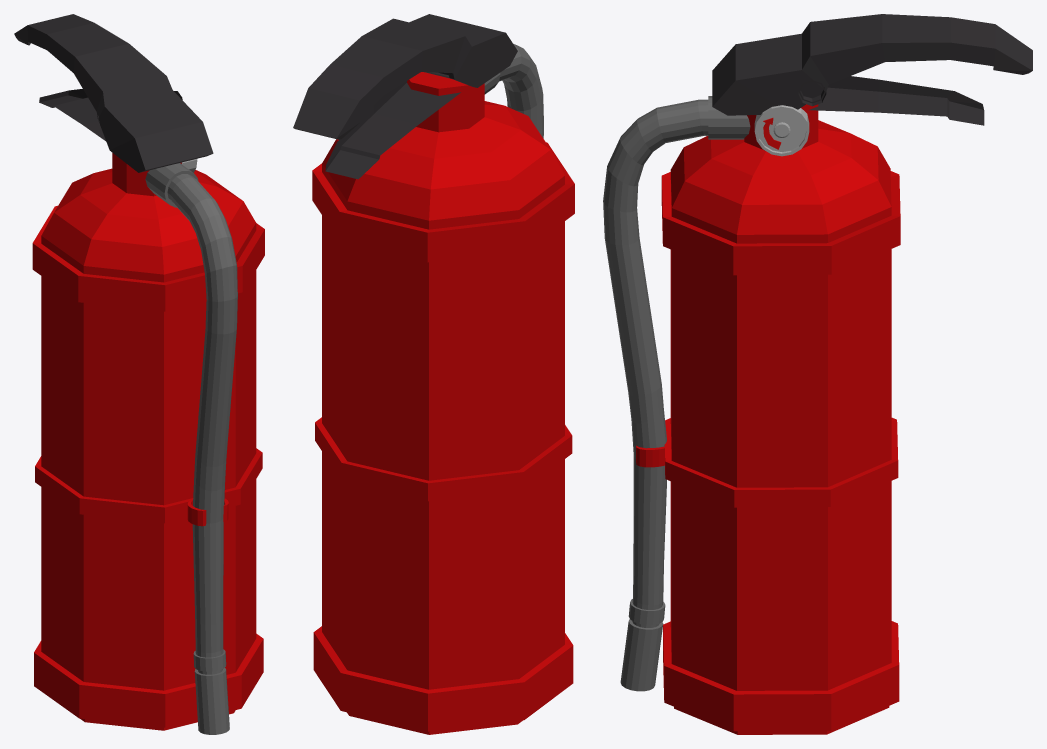
Rendered from yangın tüpü.fbx.
3 renders of one model, left to right at view 1: azimuth 30°, elevation 25°; view 2: azimuth 150°, elevation 25°; view 3: azimuth 270°, elevation 25°, orthographic. The views are drawn at different scales.
Parts seen in each view (by area): view 1: Cylinder, Cylinder.002, Plane; view 2: Cylinder, Plane, Cylinder.002; view 3: Cylinder, Plane, Cylinder.002, Cylinder.001.
Part boxes in pixels (x1=…): Cylinder: x1=32, y1=153, x2=264, y2=730; Cylinder.002: x1=145, y1=163, x2=237, y2=734; Plane: x1=14, y1=14, x2=213, y2=172; Cylinder: x1=312, y1=72, x2=574, y2=734; Plane: x1=293, y1=14, x2=517, y2=179; Cylinder.002: x1=484, y1=44, x2=543, y2=138; Cylinder: x1=636, y1=104, x2=900, y2=734; Plane: x1=712, y1=14, x2=1032, y2=125; Cylinder.002: x1=603, y1=96, x2=750, y2=691; Cylinder.001: x1=754, y1=105, x2=809, y2=156.
Size of the model in its own units: 201 by 613 by 361.
